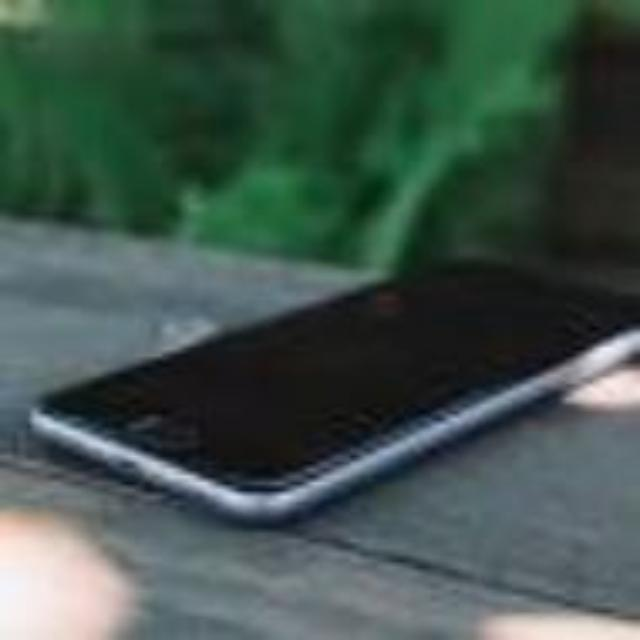phone: (49, 192, 640, 522)
